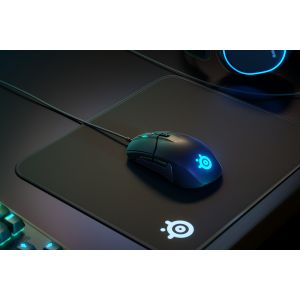mouse: (108, 121, 228, 200)
